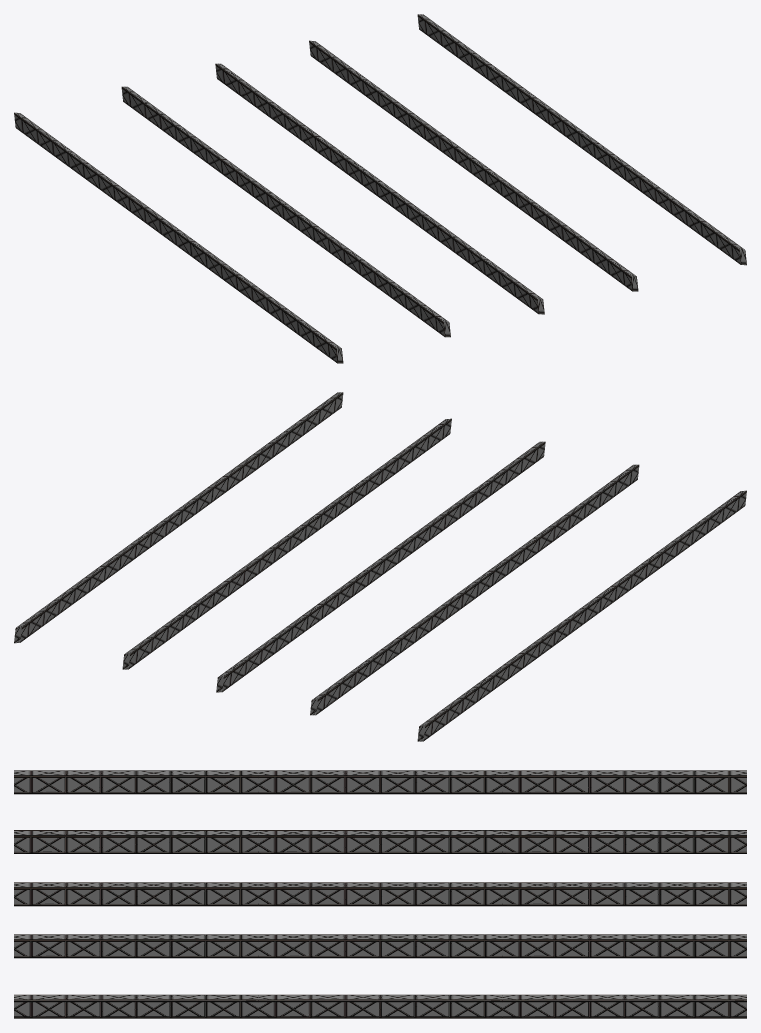
The model's file is CR_2035_BAKED_transparent.glb.
The picture shows the model from 3 angles, top to bottom: view 1: azimuth 30°, elevation 25°; view 2: azimuth 150°, elevation 25°; view 3: azimuth 270°, elevation 25°; orthographic projection. The views are drawn at different scales.
Visible parts, largest first — view 1: CR_2035_truss; view 2: CR_2035_truss; view 3: CR_2035_truss.
Part boxes in pixels (left/top/right/bottom): CR_2035_truss: left=14, top=14, right=746, bottom=363; CR_2035_truss: left=14, top=392, right=746, bottom=741; CR_2035_truss: left=14, top=770, right=746, bottom=1018.
Size of the model in its own units: 8 by 0.3221 by 10.84.
1 material, 1 textured.
